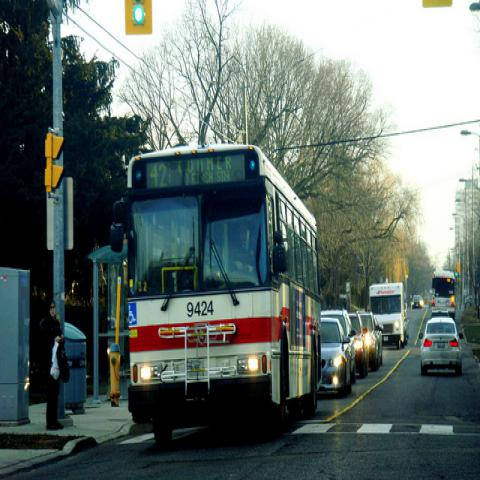bus: (108, 146, 322, 449), (431, 270, 455, 321)
car: (374, 294, 424, 366), (316, 317, 352, 398), (320, 308, 356, 385), (418, 321, 465, 375), (347, 311, 370, 378), (360, 310, 382, 371), (425, 315, 455, 334)
truck: (370, 282, 406, 350)
